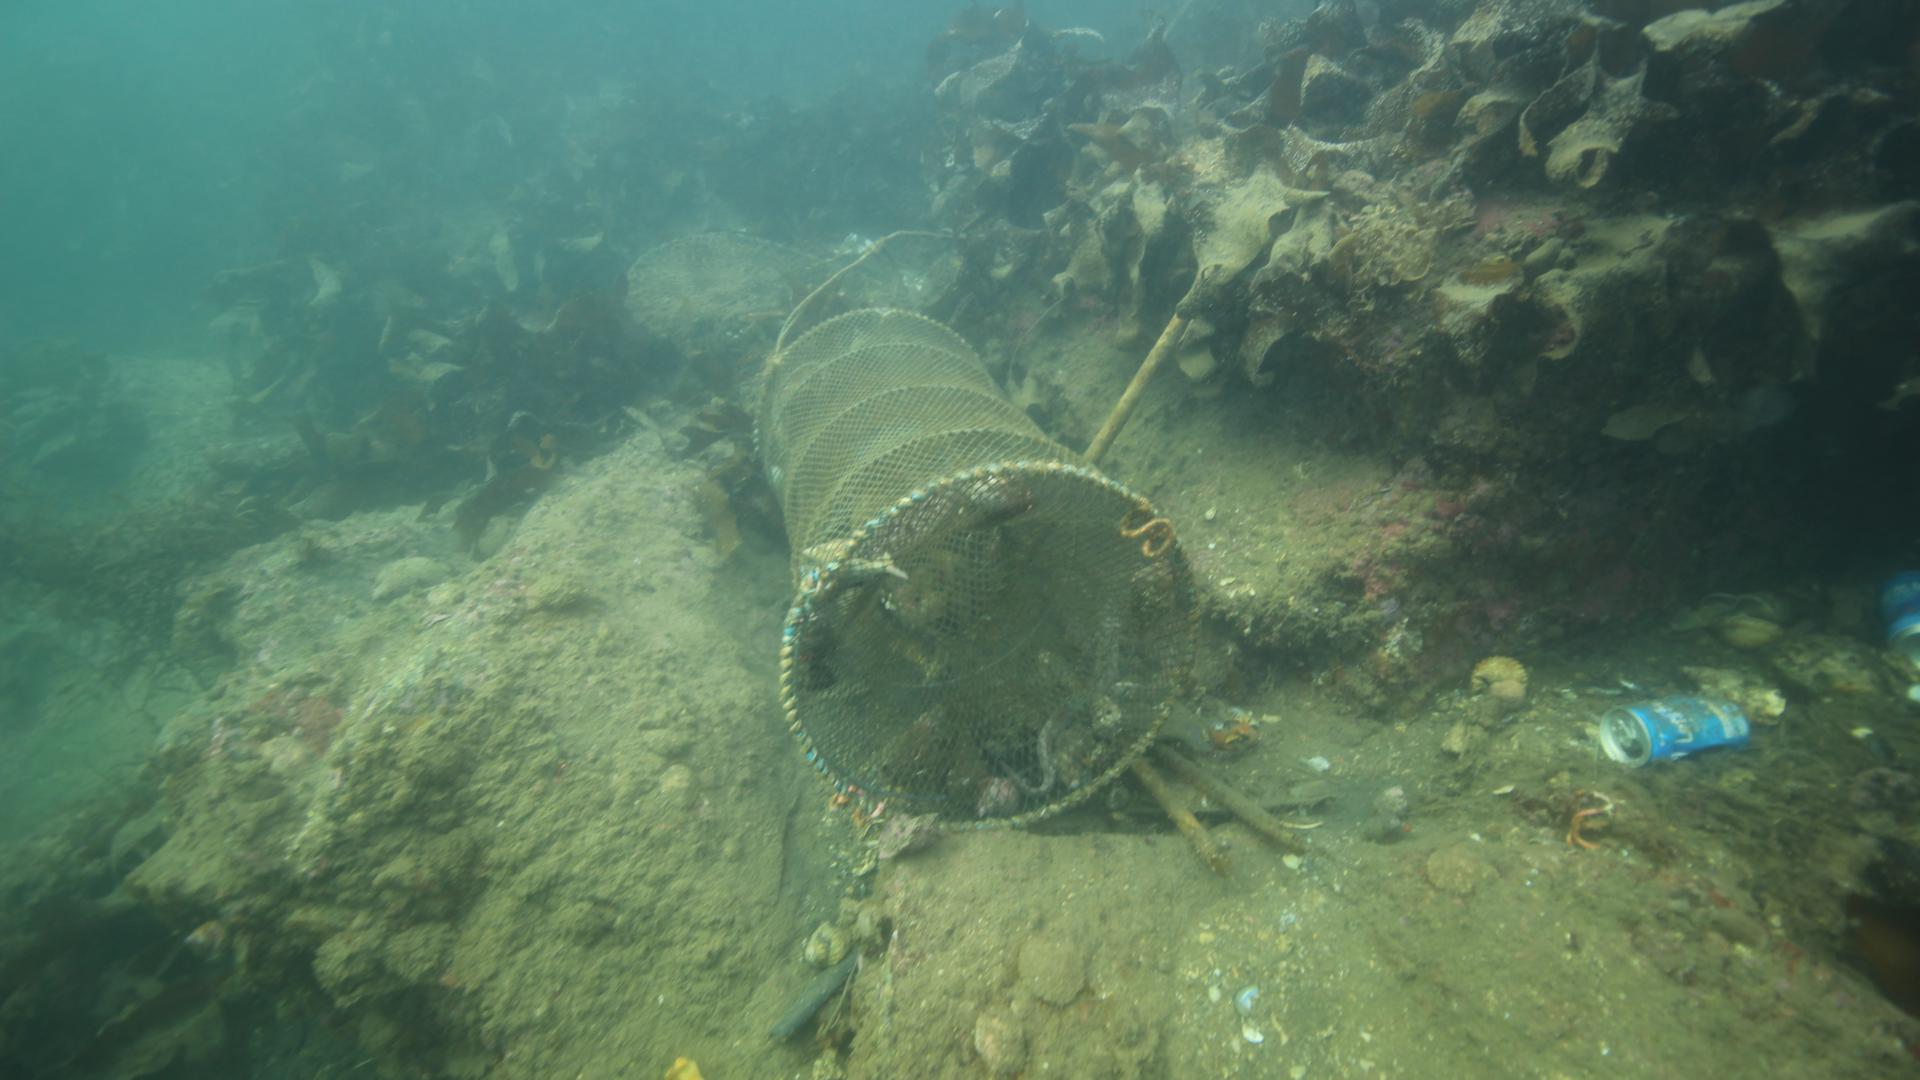spring fish trap: (746, 313, 1193, 827)
